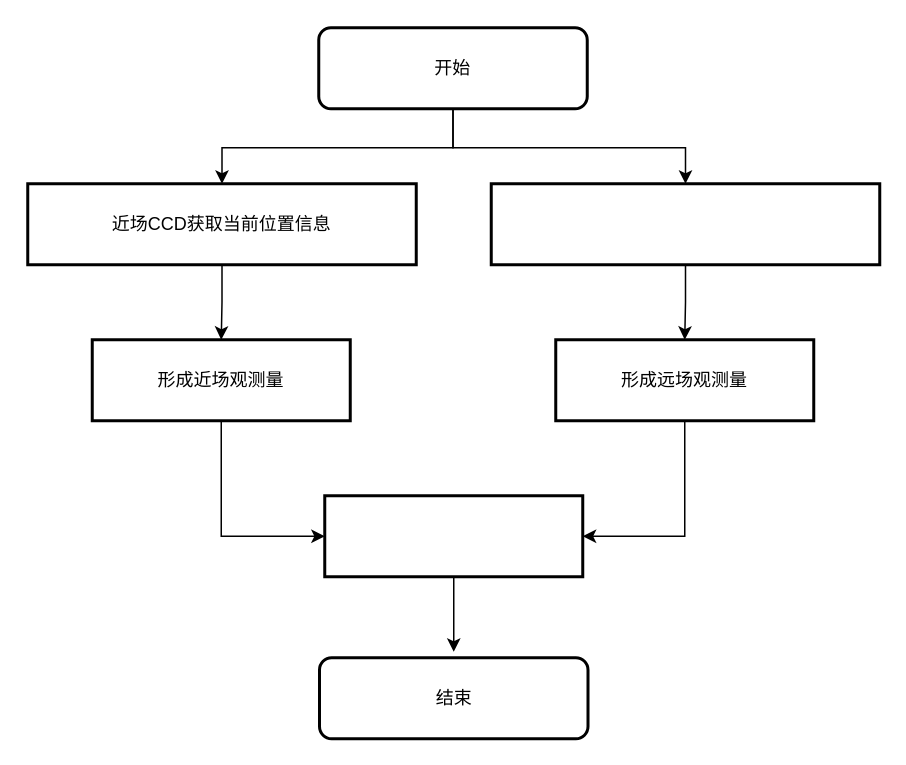
Image size: 906x765. Some labels were removed from this diagram. Here are the shapes that lost their labels. From the top down, the box of each, then its label:
(489, 182, 880, 266): 远场CCD获取前方趋势信息
(322, 494, 584, 578): 双视角信息互补
